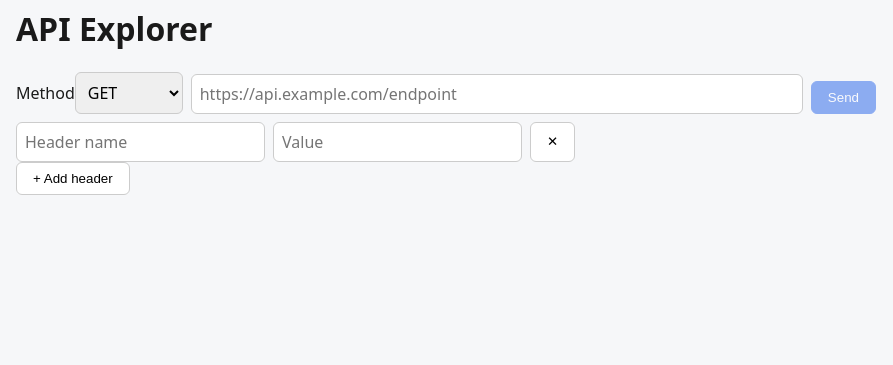
App › renders the error panel when sendRequest throws
The image size is (893, 365).
Type "https://api.test/x" into the field with placeholder "https://api.example.com/endpoint" at (497, 94), box [191, 74, 803, 114]
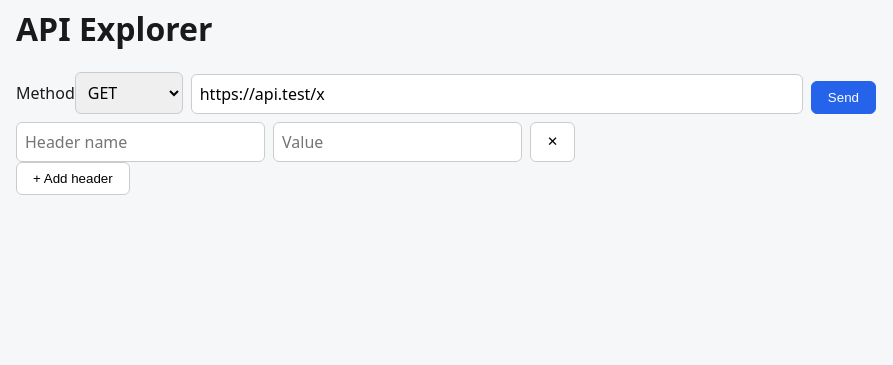
Click the button "Send" at (843, 97), box [811, 81, 876, 114]
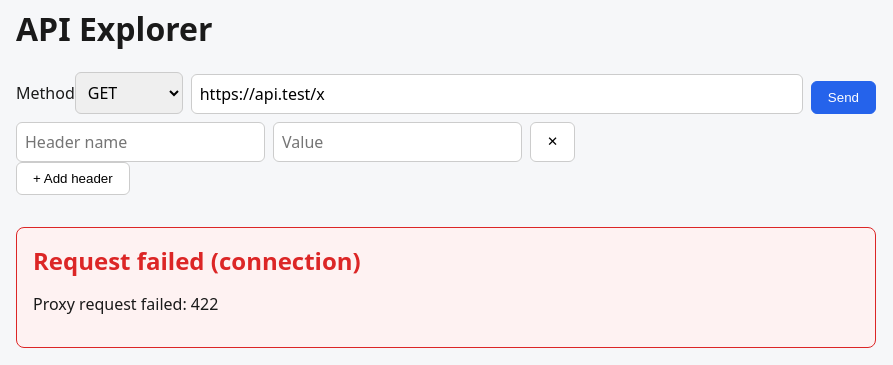
Expected: the heading "Request failed (connection)" is shown, [33, 244, 361, 277]
Expected: the text "Proxy request failed: 422" is shown, [33, 293, 218, 315]
